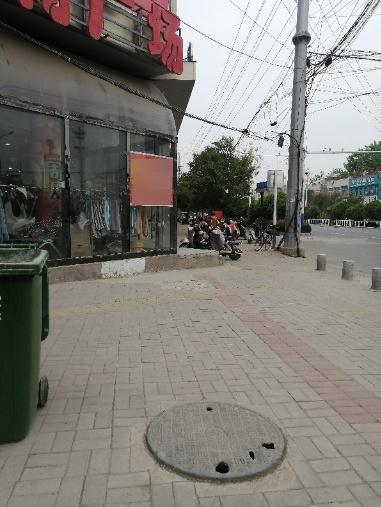broke: (146, 400, 288, 483)
